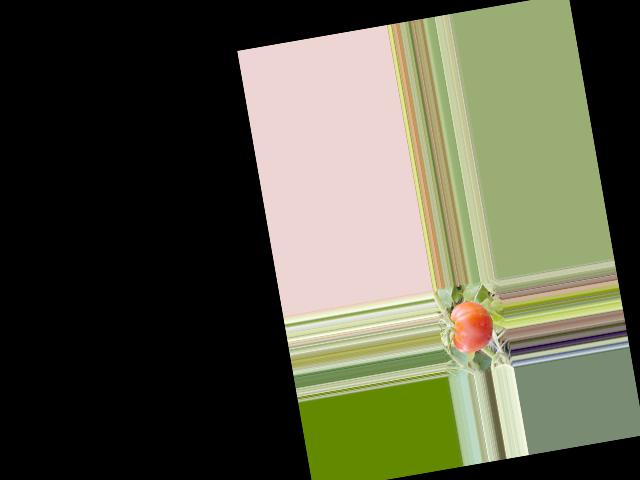tomato: (447, 298, 497, 355)
